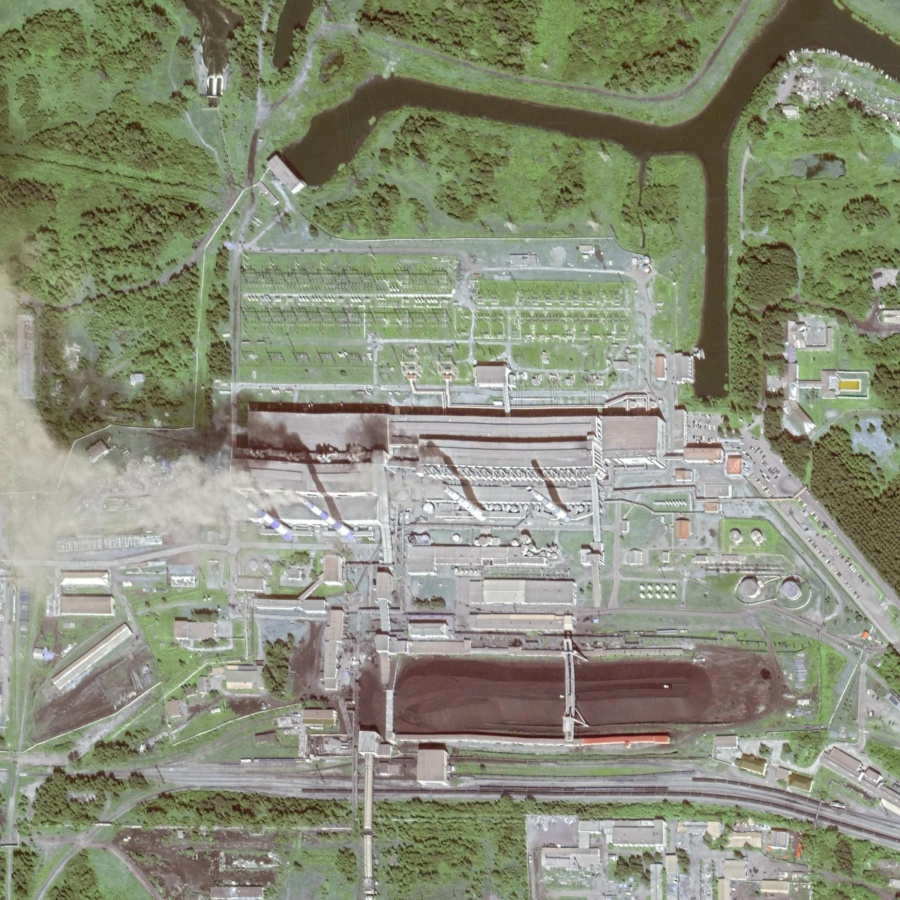PowerPlant: (206, 408, 806, 750)
